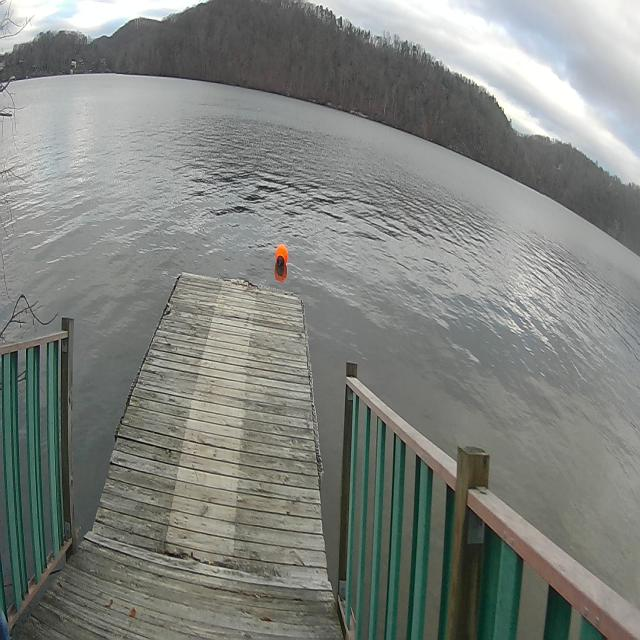Buoy: (272, 238, 292, 282)
